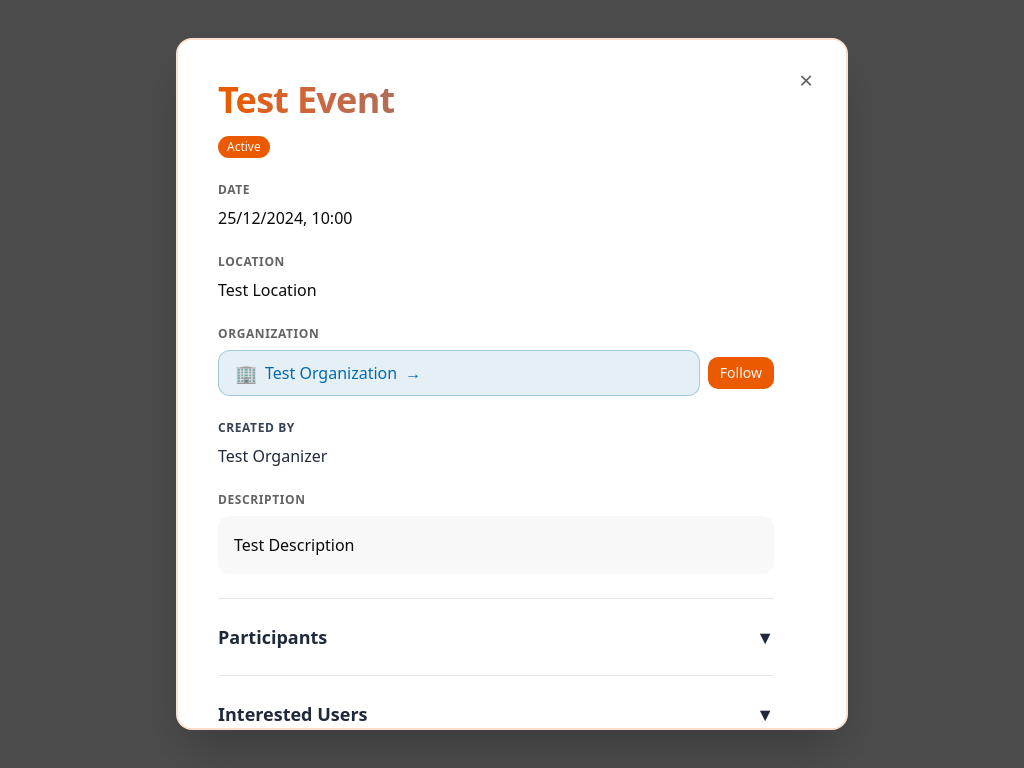
Test case: EventModal › Participants Section › should display a message when there are no participants
The image size is (1024, 768).
Expected: the heading "Test Event" is shown, [218,80,774,120]
Click the button "Participants ▼" at (273, 637), box [218,623,774,651]
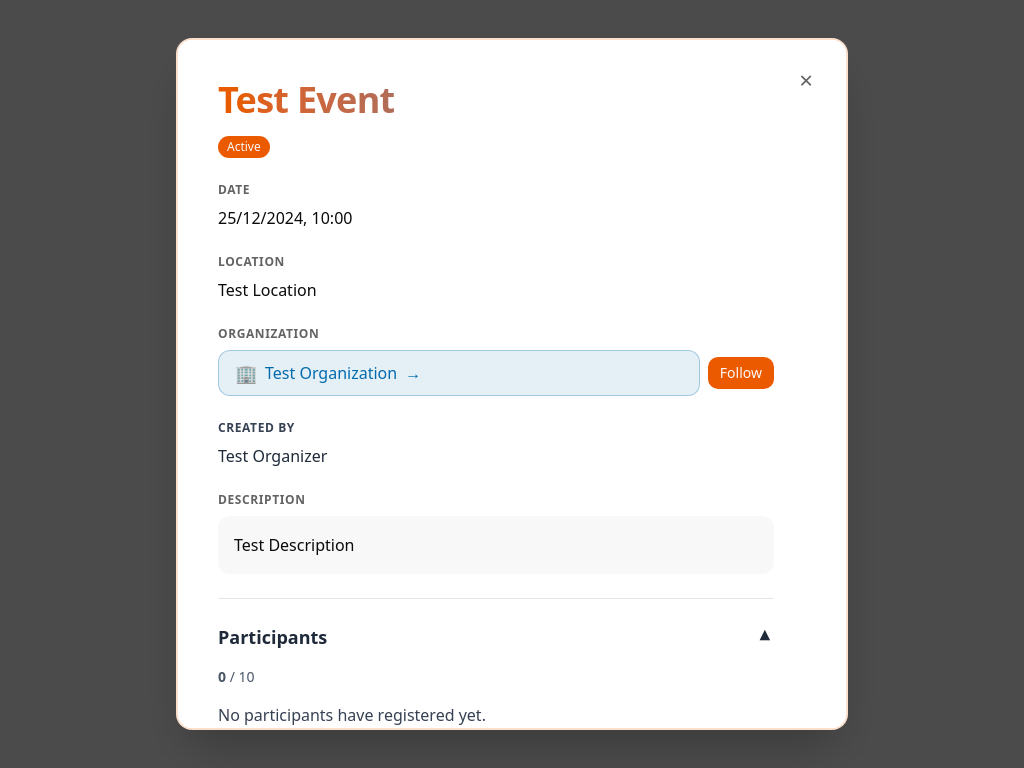
Expected: the text "No participants have registered yet." is shown, [218,704,486,726]
